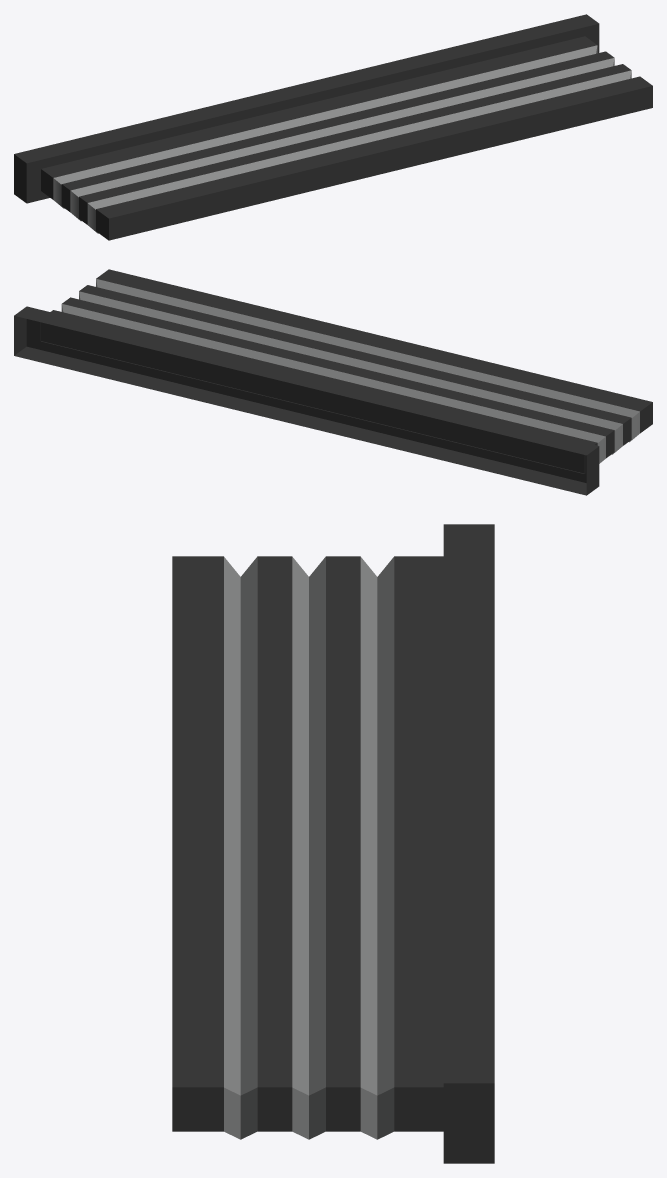
File: Awning_A_04.FBX
The picture shows the model from 3 angles, top to bottom: view 1: azimuth 30°, elevation 25°; view 2: azimuth 150°, elevation 25°; view 3: azimuth 270°, elevation 25°; orthographic projection. The views are drawn at different scales.
Parts seen in each view (by area): view 1: Awning_A_04; view 2: Awning_A_04; view 3: Awning_A_04.
Boxes of the visible parts, <box> form: Awning_A_04: <box>14,14,652,240</box>; Awning_A_04: <box>14,269,652,495</box>; Awning_A_04: <box>172,524,494,1163</box>.
Size of the model in its own units: 2.36 by 0.1583 by 0.5751.
